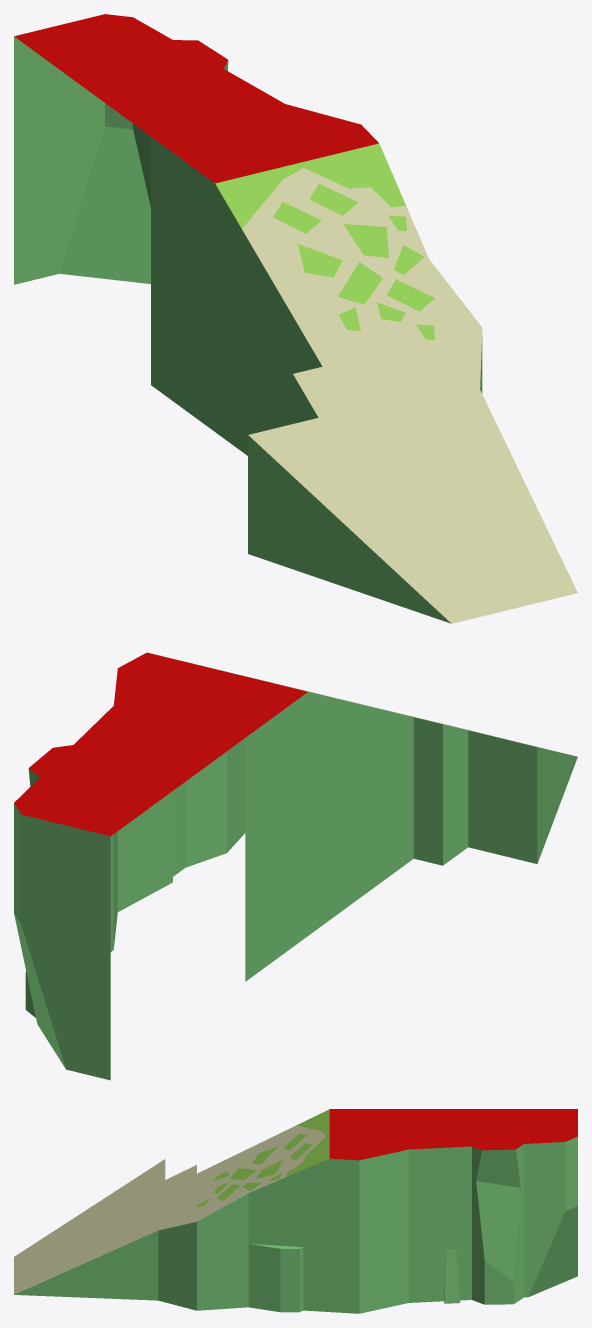
File: x_00_colonn_23_spusk_B2_1_rmstrd.fbx
3 views of the same model, one above another, from view 1: azimuth 30°, elevation 25°; view 2: azimuth 150°, elevation 25°; view 3: azimuth 270°, elevation 25° (orthographic). The views are drawn at different scales.
Parts seen in each view (by area): view 1: x_00_colonn_23_spusk_B2_1_rmstrd1; view 2: x_00_colonn_23_spusk_B2_1_rmstrd1; view 3: x_00_colonn_23_spusk_B2_1_rmstrd1.
Part boxes in pixels (x1,y1,x2,y2): x_00_colonn_23_spusk_B2_1_rmstrd1: [14, 14, 577, 623]; x_00_colonn_23_spusk_B2_1_rmstrd1: [14, 652, 577, 1080]; x_00_colonn_23_spusk_B2_1_rmstrd1: [14, 1109, 577, 1313].
Size of the model in its own units: 4.55 by 4 by 13.32.
